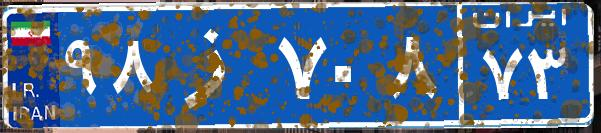0: (330, 28, 385, 110)
3: (525, 38, 570, 115)
7: (273, 28, 330, 110), (475, 38, 525, 113)
8: (385, 28, 445, 110), (110, 28, 158, 105)
9: (57, 26, 110, 107)
ز: (158, 15, 273, 115)
